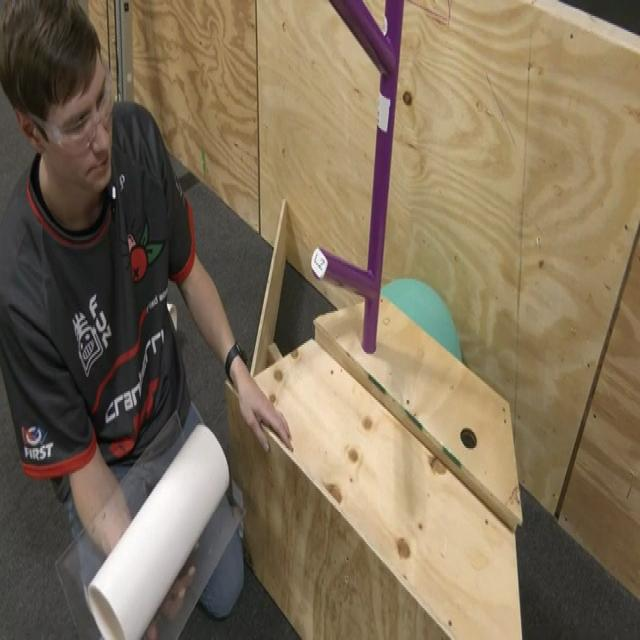Coral: (85, 420, 230, 638)
